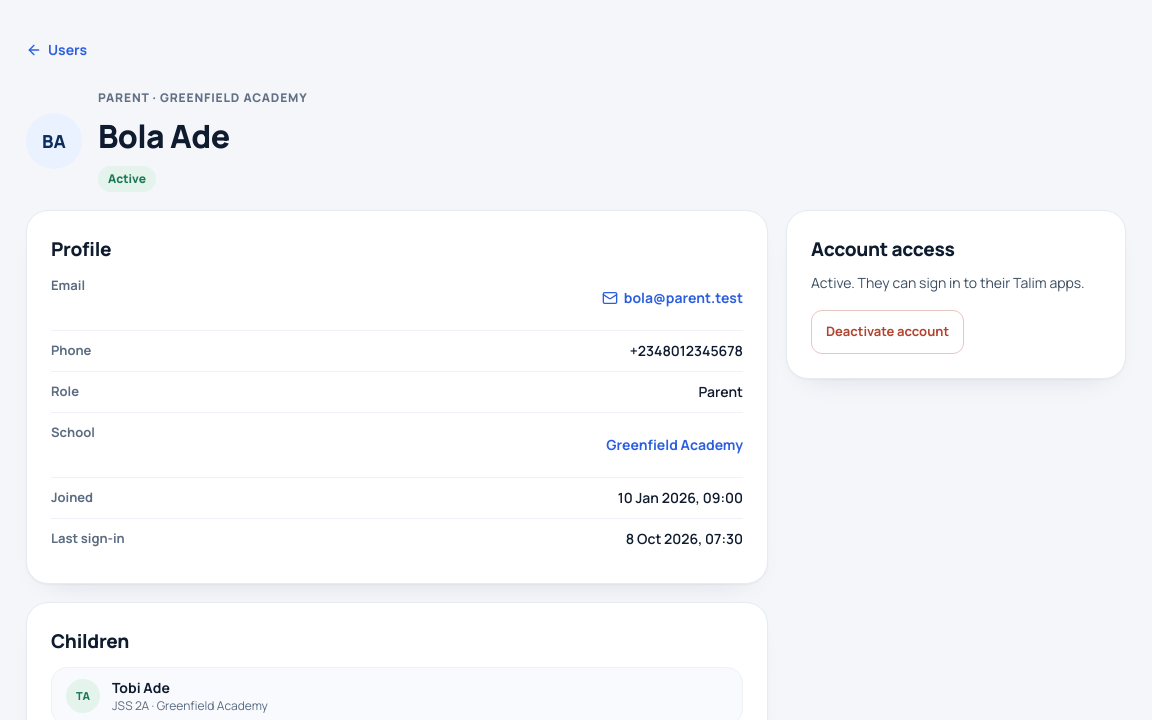
Scenario: User detail › explains a 403 ADMIN_ACCOUNT refusal inside the sheet
What coordinates should you click on to do the following:
click the button "Deactivate account"
I would click on:
 (888, 332)
Its box is [811,310,964,354].
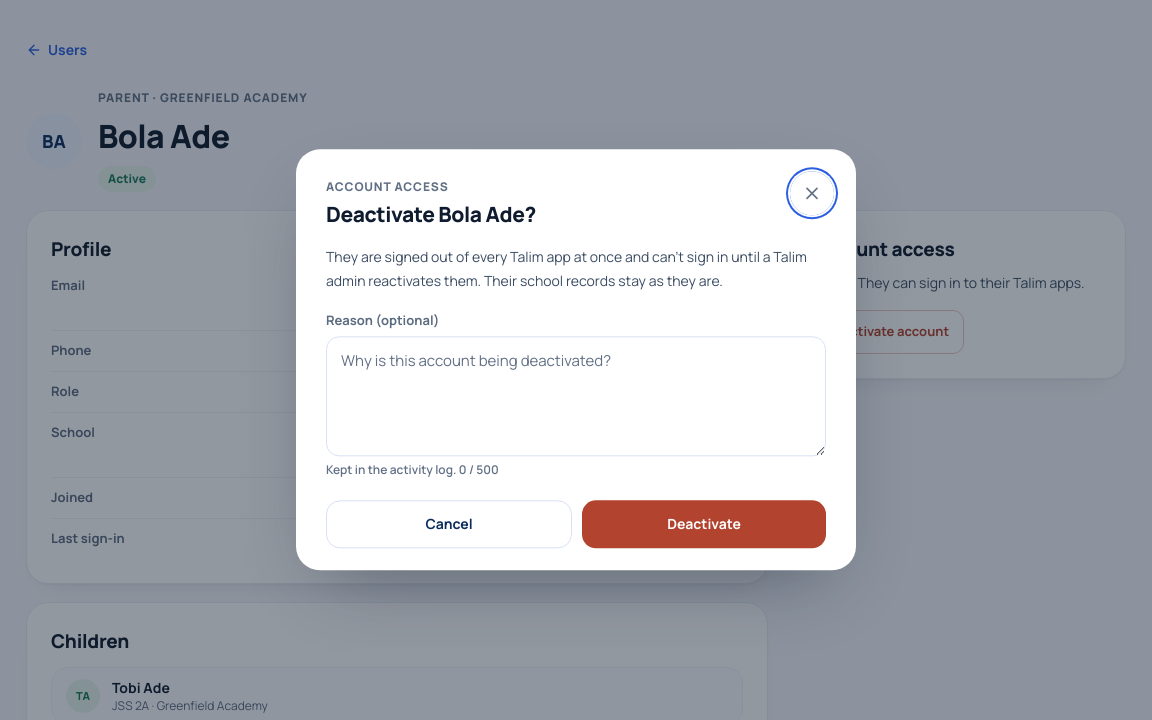
What coordinates should you click on to do the following:
click the button "Deactivate"
I would click on:
 (704, 525)
Its box is [582,501,826,549].
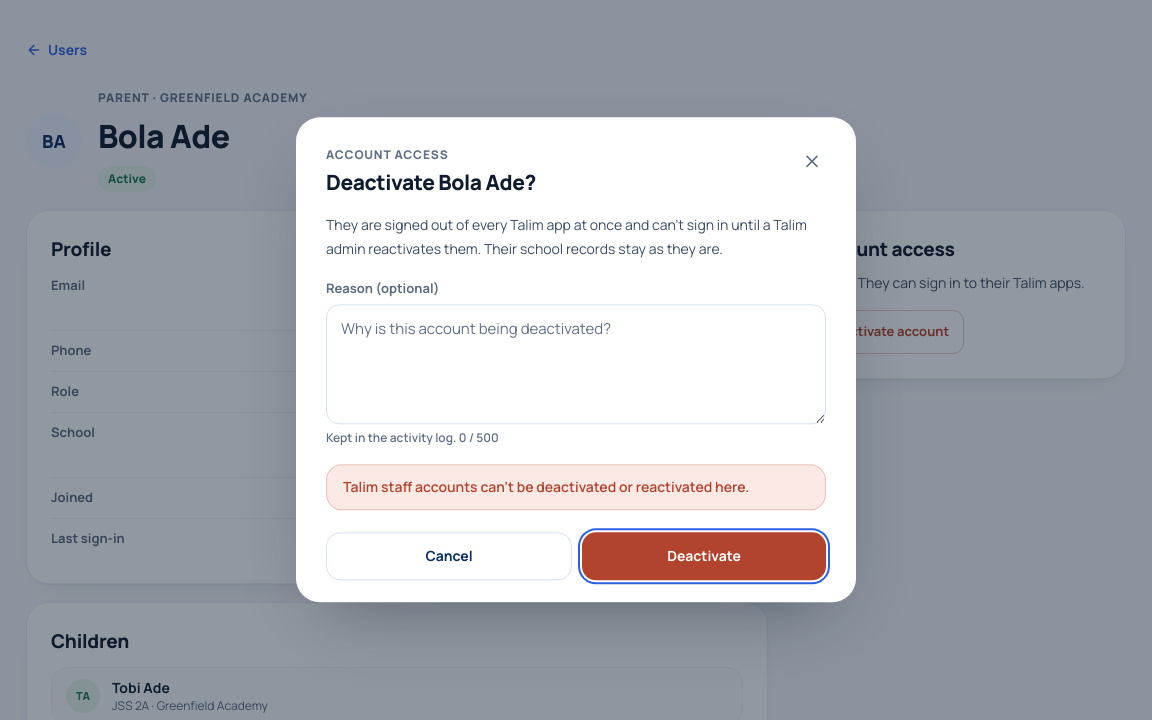
Now the dialog is shown, box [296,117,856,603]
Now the message shows "Talim staff accounts", box [343,478,749,497]
